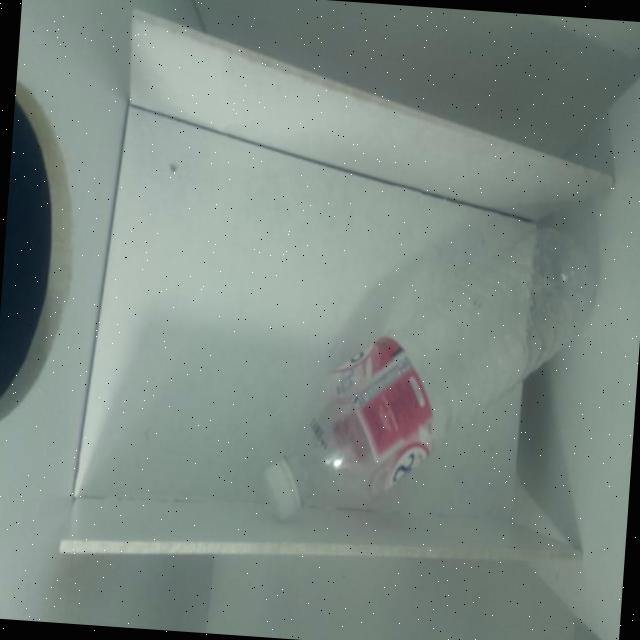bottle: (240, 170, 620, 564)
cap: (260, 459, 303, 520)
label: (316, 329, 442, 519)
